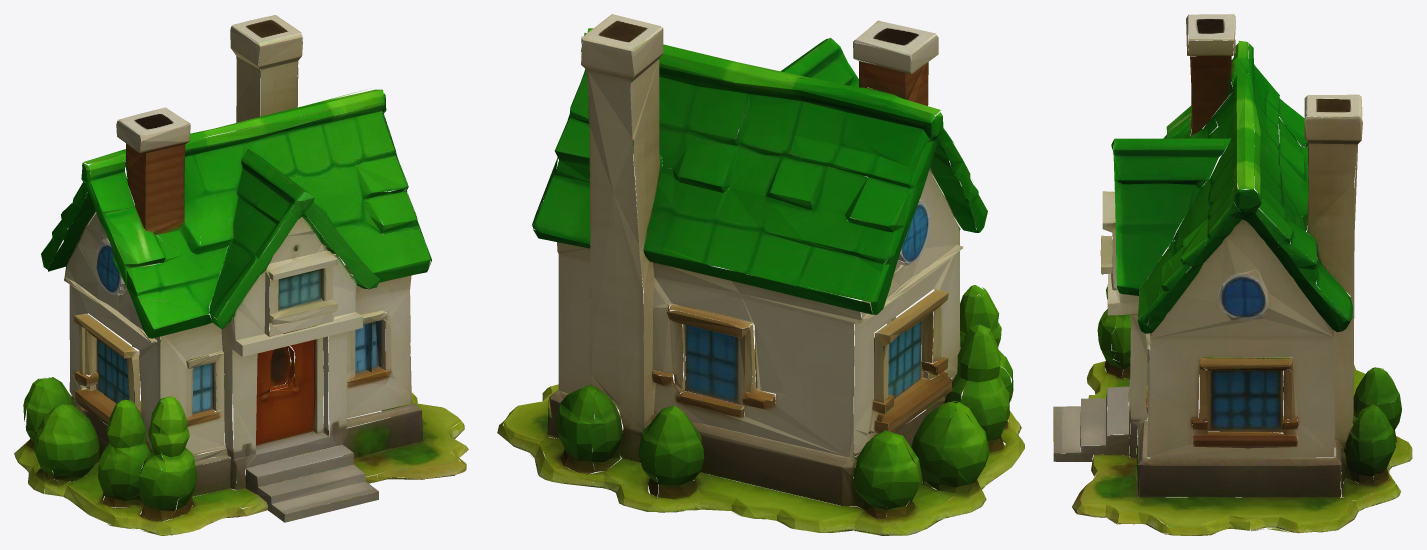
The model's file is green_roof_house.glb.
3 renders of one model, left to right at view 1: azimuth 30°, elevation 25°; view 2: azimuth 150°, elevation 25°; view 3: azimuth 270°, elevation 25°, orthographic. The views are drawn at different scales.
Parts seen in each view (by area): view 1: geometry_0; view 2: geometry_0; view 3: geometry_0.
Part boxes in pixels (x1,y1,x2,y2): geometry_0: (14, 15, 468, 535); geometry_0: (497, 14, 1024, 535); geometry_0: (1053, 14, 1412, 535).
Bounding box in the file's own units: 1 × 0.9073 × 0.7893.
Materials: 1 (1 with a texture image).
